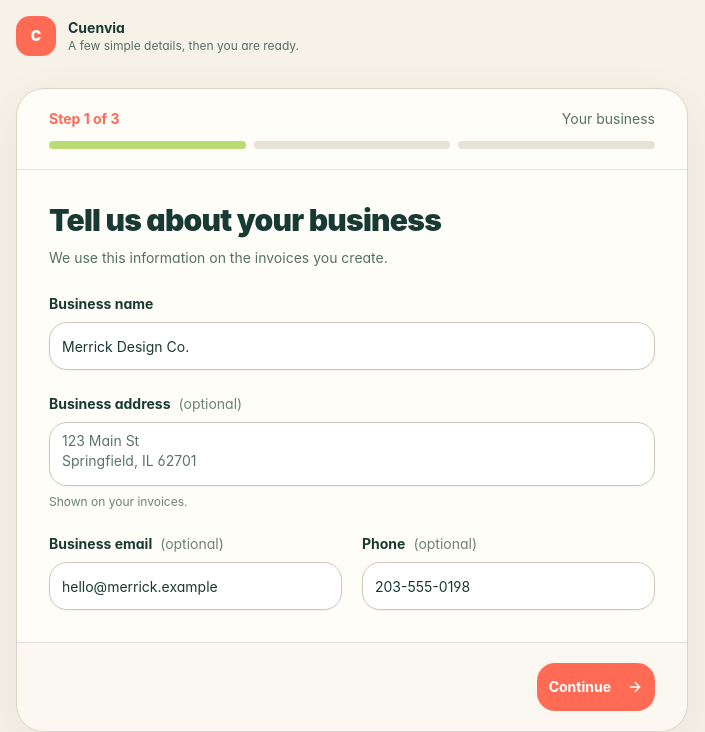
Test: OnboardingPage › requires a business name before advancing
Clear the field labelled "Business name" at (352, 346), box [49,322,655,370]
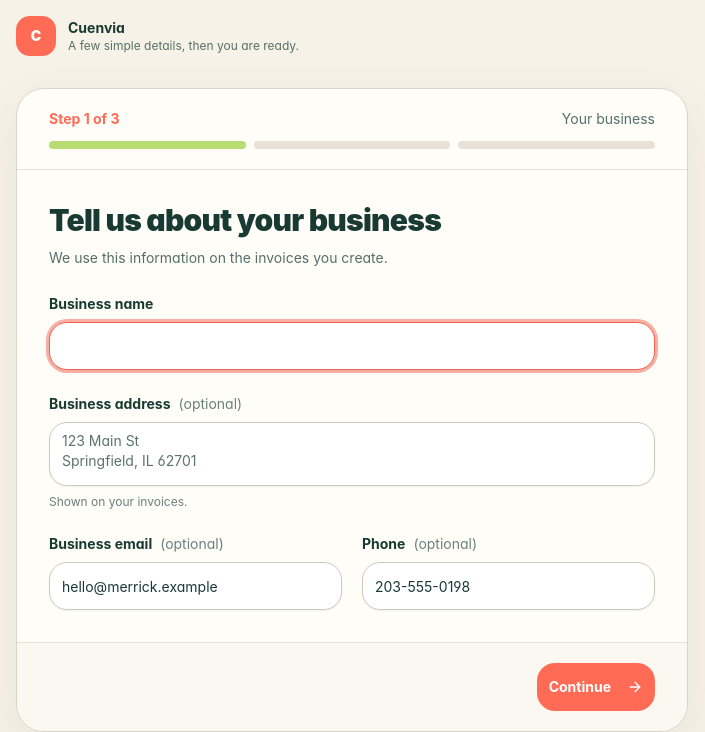
Click the button "Continue".
click(596, 687)  # box [537,663,655,711]
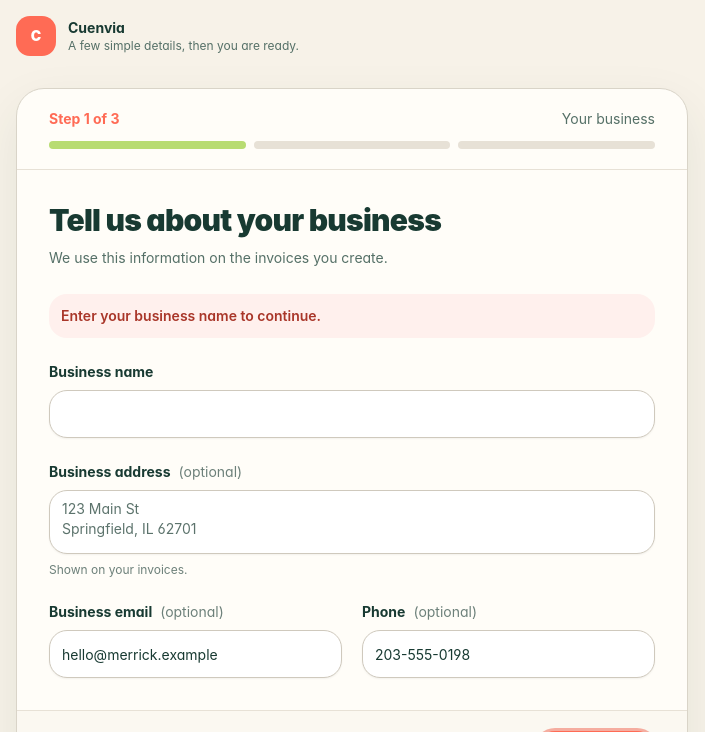
Result: the message shows "business name" at [61,307,321,324]
